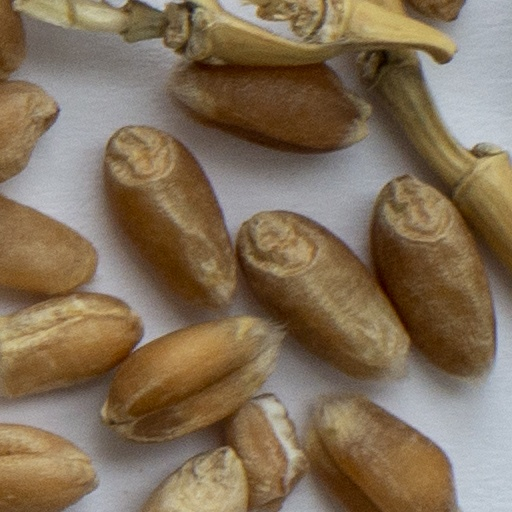Wheat-grain-damaged-poly: (227, 395, 306, 510)
